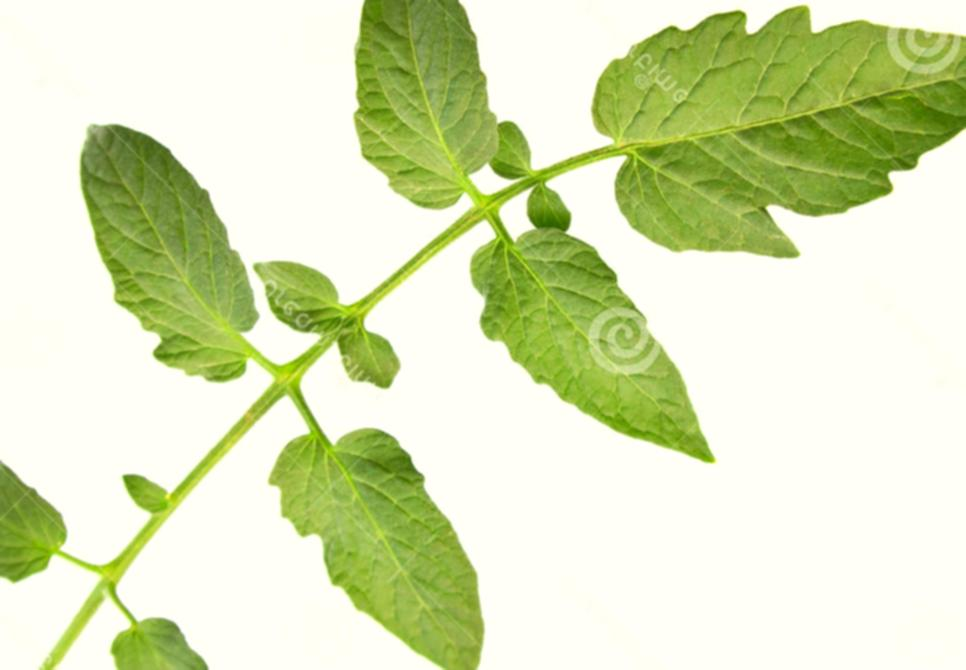Tomato leaf: (605, 0, 966, 284), (214, 396, 536, 670), (10, 101, 276, 397), (477, 206, 748, 479), (289, 0, 580, 229), (0, 398, 85, 588), (107, 585, 294, 670)
